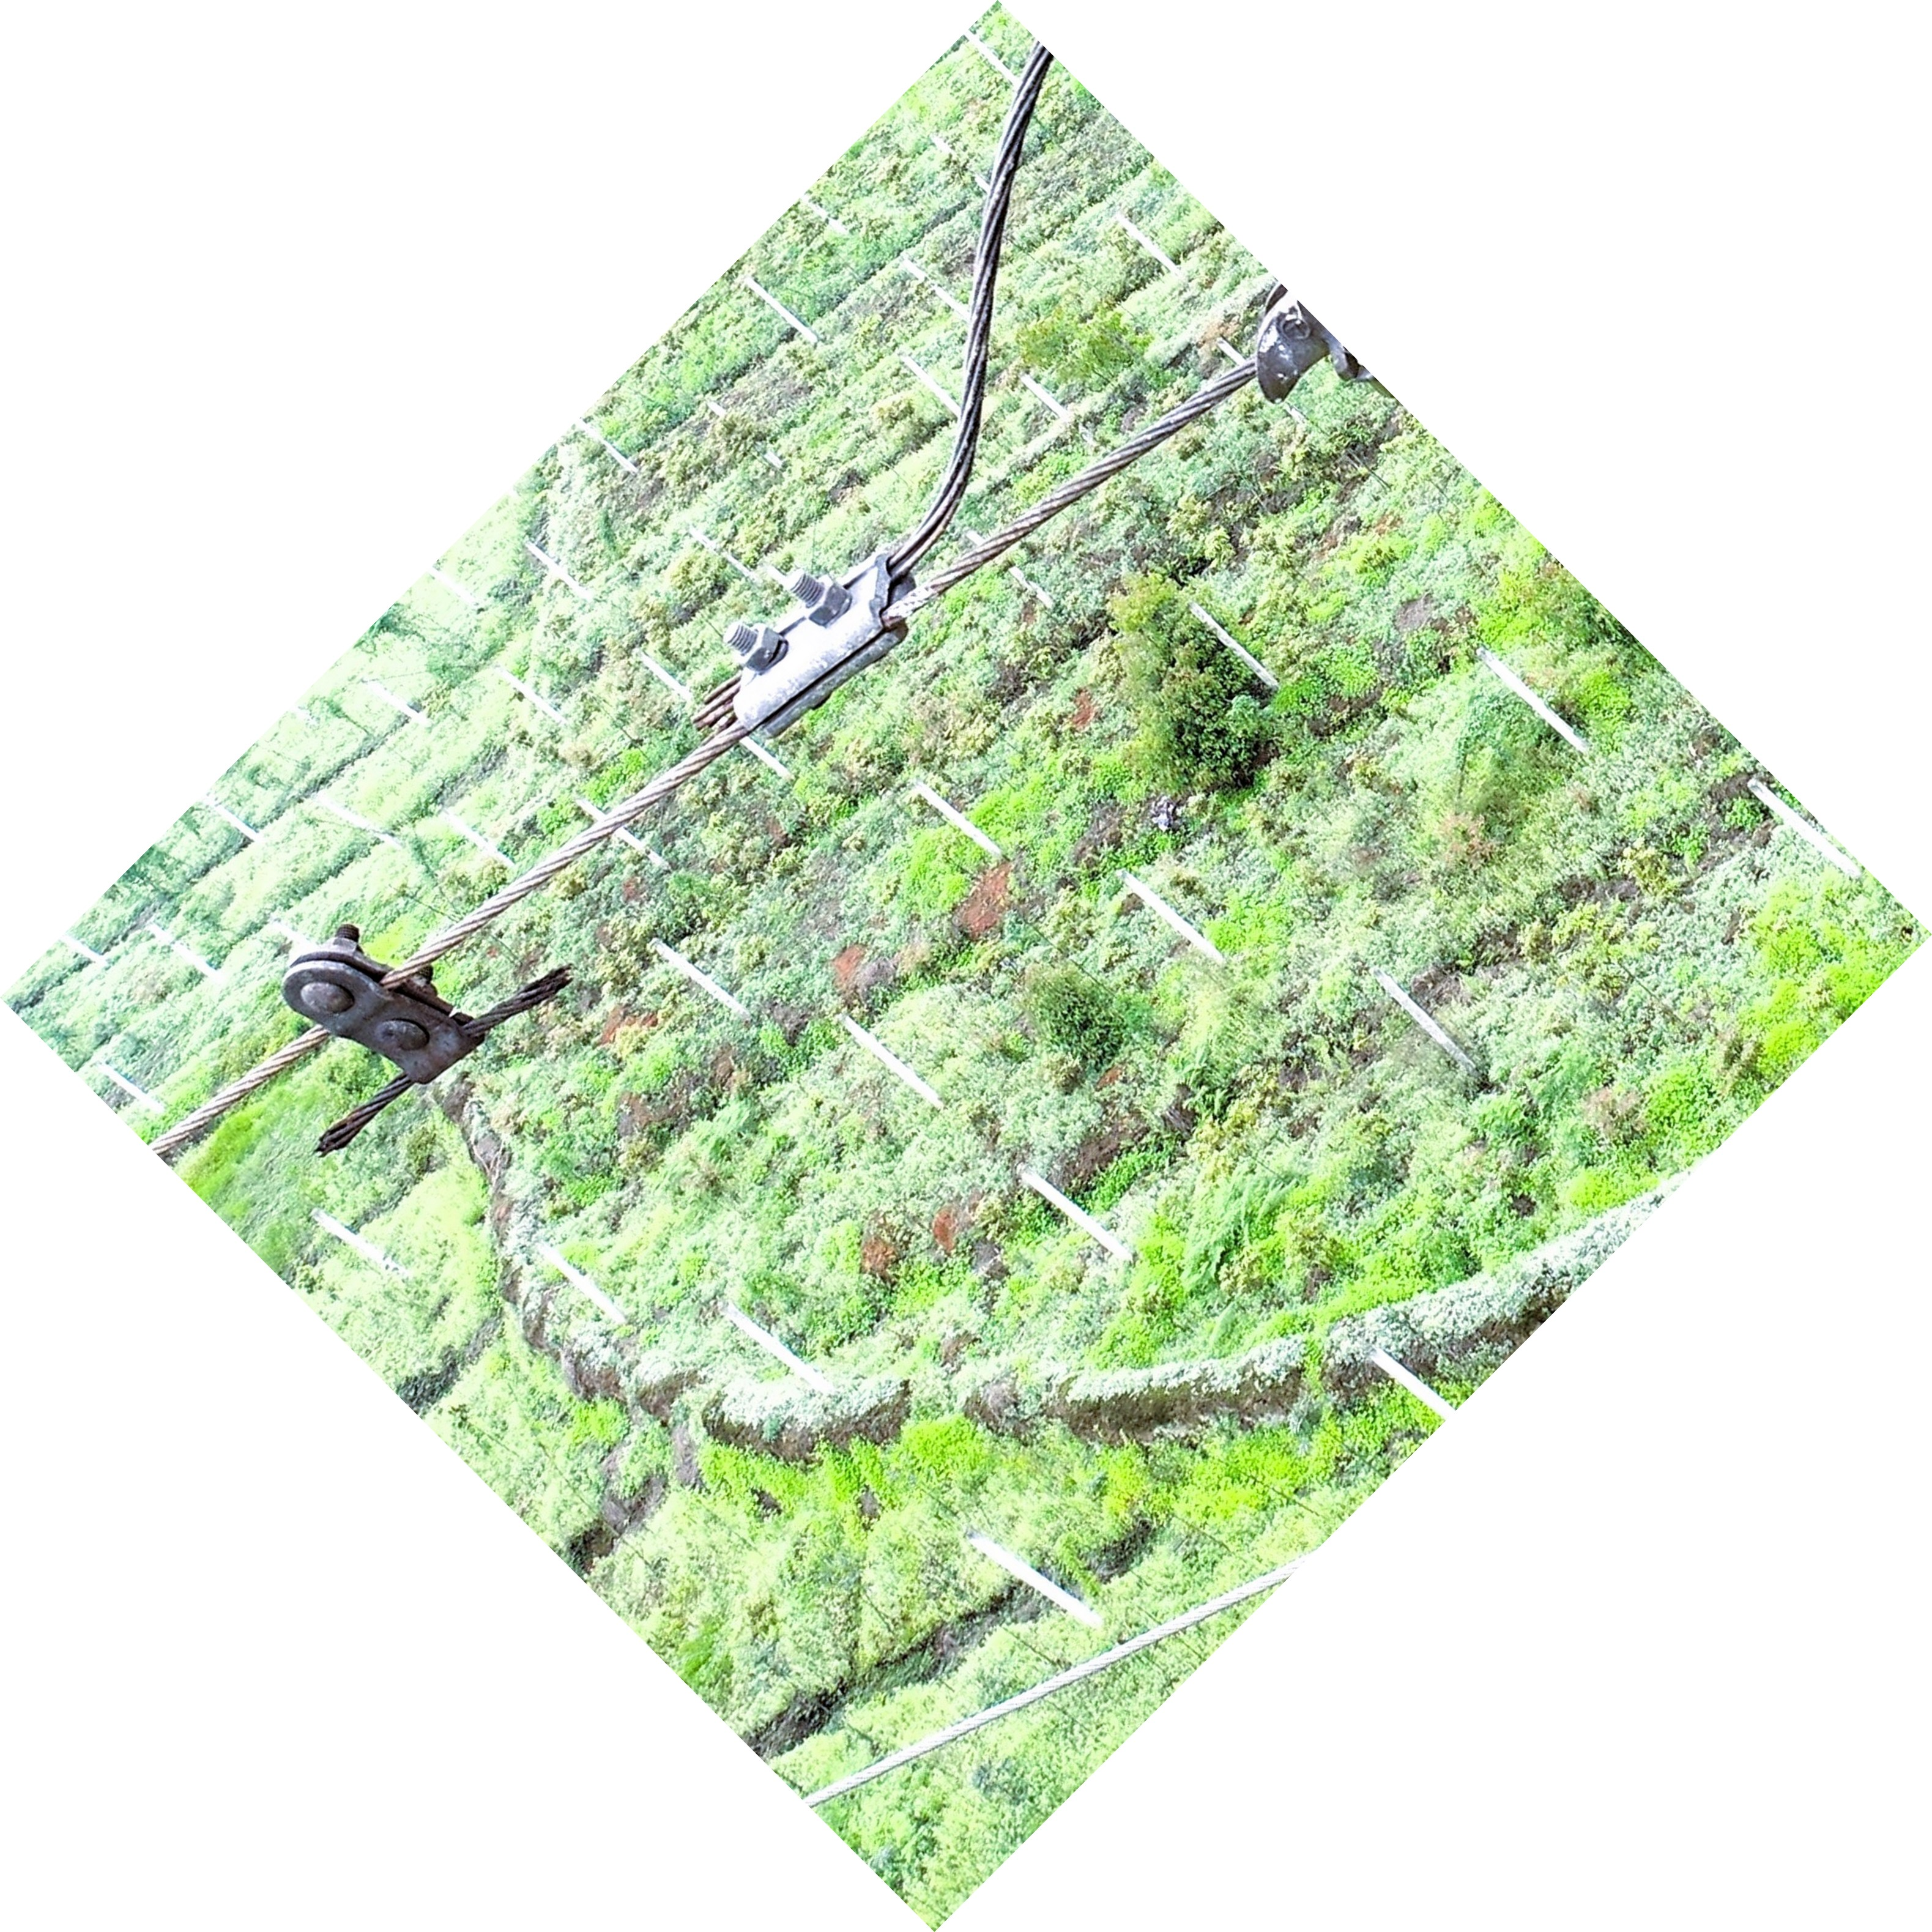Damage of shockproof hammer: (262, 870, 603, 1182)
